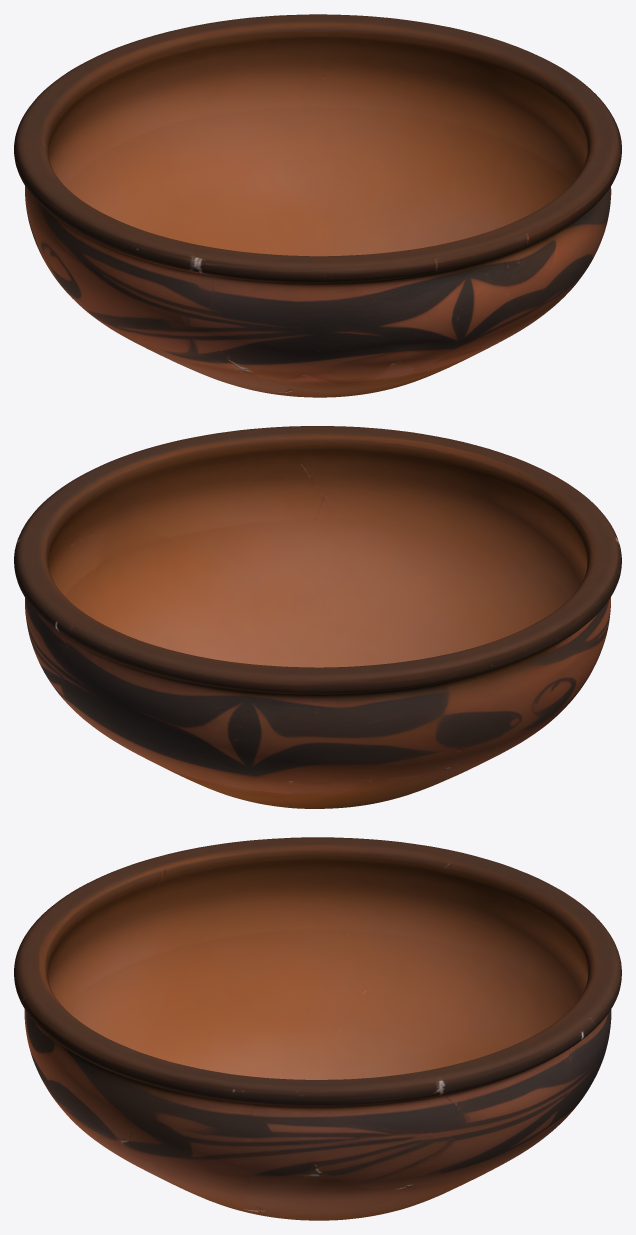
File: yuwencaitaopenB.glb
3 renders of one model, top to bottom at view 1: azimuth 30°, elevation 25°; view 2: azimuth 150°, elevation 25°; view 3: azimuth 270°, elevation 25°, orthographic.
Visible parts, largest first — view 1: node_0; view 2: node_0; view 3: node_0.
Boxes of the visible parts, bbox=[...] form: node_0: bbox=[14, 14, 621, 397]; node_0: bbox=[14, 426, 621, 808]; node_0: bbox=[14, 837, 621, 1220].
Size of the model in its own units: 1.13 by 0.4262 by 1.13.
Materials: 1 (1 with a texture image).
